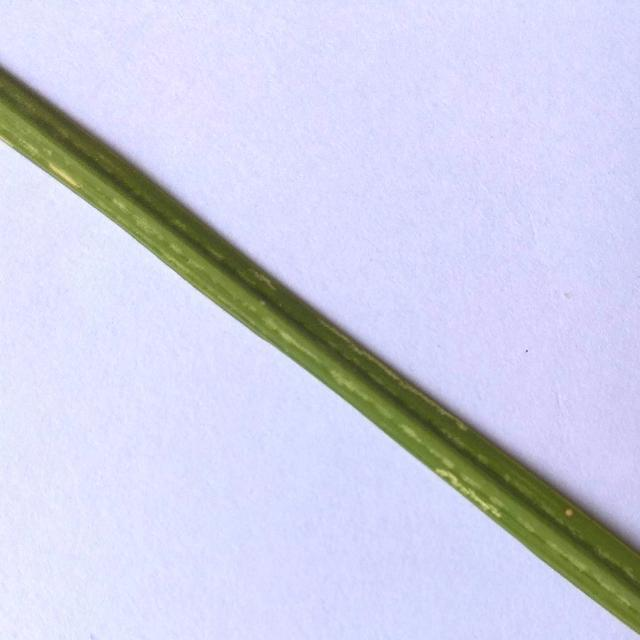Blast: (51, 162, 88, 185), (562, 507, 580, 520)
